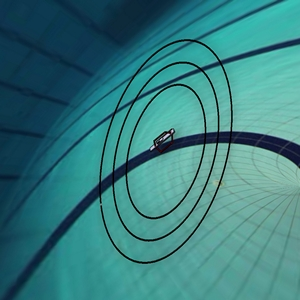circle: (88, 31, 252, 268)
submarine: (143, 120, 182, 161)
